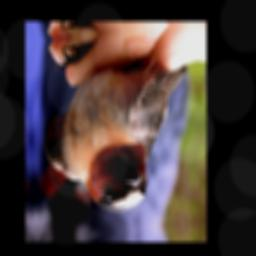Swallow: (40, 29, 195, 221)
